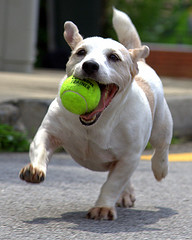tennis ball: (60, 74, 102, 115)
